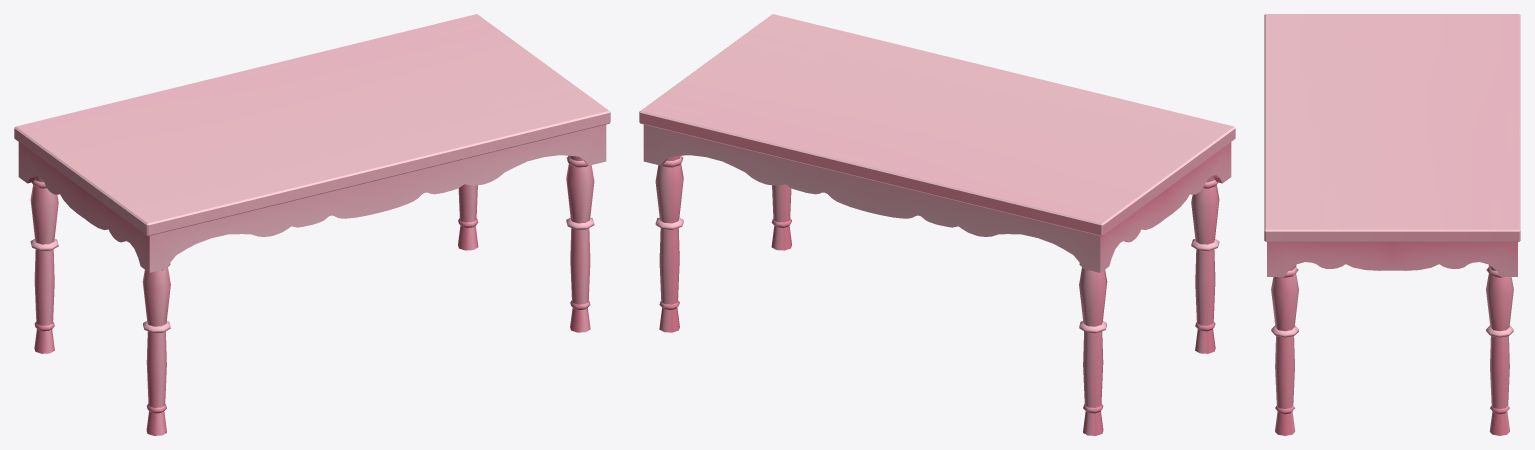
File: Doll_OB_Table_001.FBX
3 renders of one model, left to right at view 1: azimuth 30°, elevation 25°; view 2: azimuth 150°, elevation 25°; view 3: azimuth 270°, elevation 25°, orthographic. The views are drawn at different scales.
Parts seen in each view (by area): view 1: Doll_OB_Table_001; view 2: Doll_OB_Table_001; view 3: Doll_OB_Table_001.
Part boxes in pixels (x1,y1,x2,y2): Doll_OB_Table_001: (14, 14, 610, 435); Doll_OB_Table_001: (639, 14, 1235, 435); Doll_OB_Table_001: (1264, 14, 1520, 435).
Bounding box in the file's own units: 16.99 × 7.7 × 8.49.
